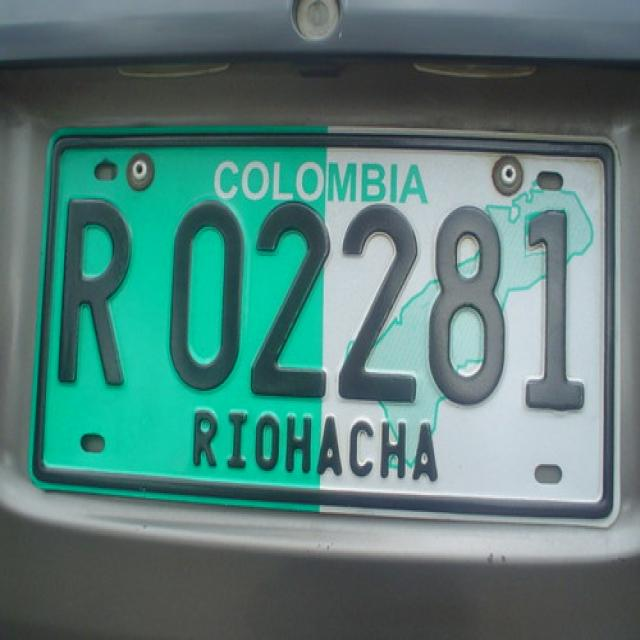placas: (44, 187, 597, 430)
